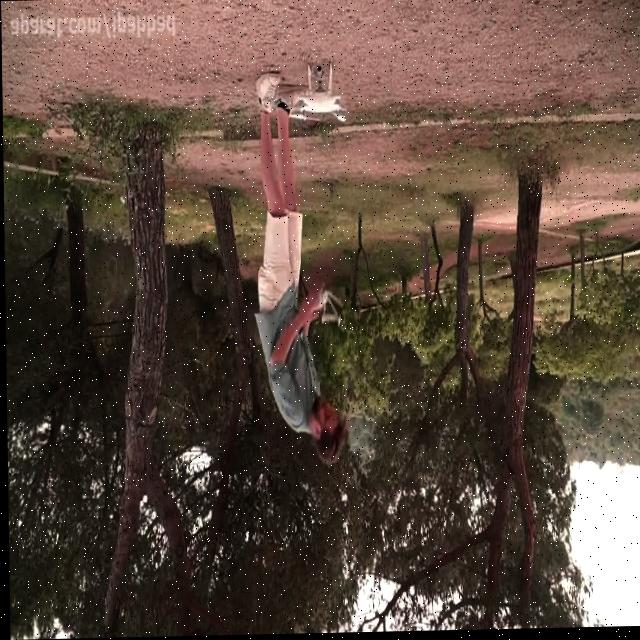drone: (290, 61, 348, 131)
